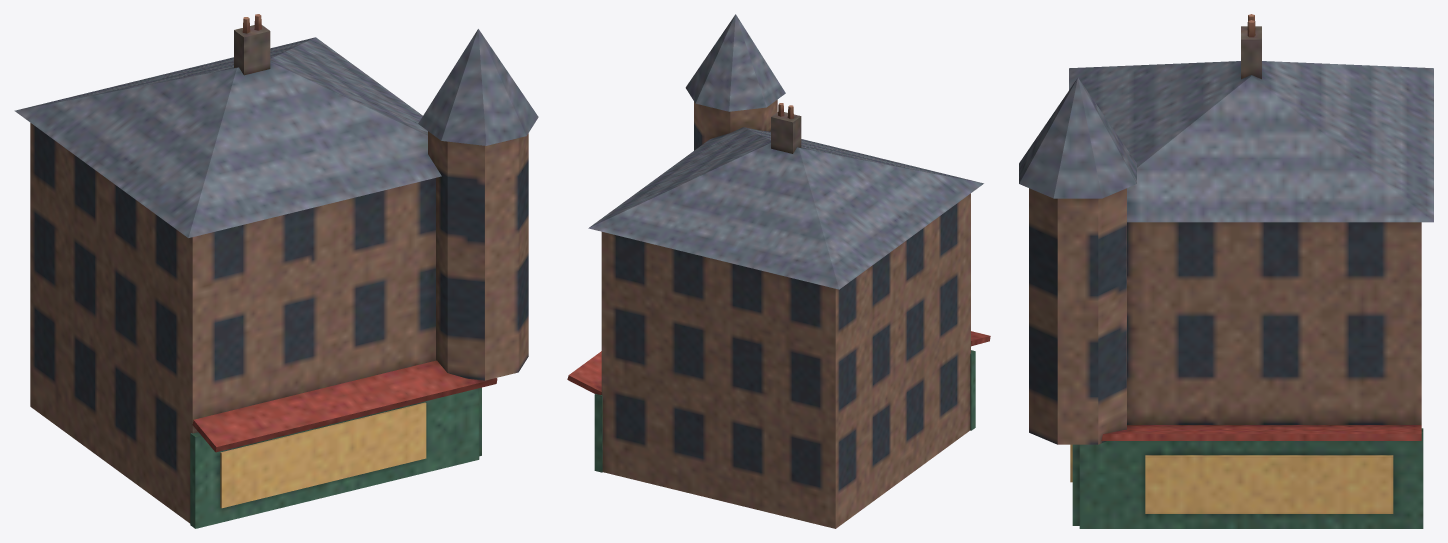
File: SM_Shop_Corner.fbx
3 renders of one model, left to right at view 1: azimuth 30°, elevation 25°; view 2: azimuth 150°, elevation 25°; view 3: azimuth 270°, elevation 25°, orthographic. The views are drawn at different scales.
Parts seen in each view (by area): view 1: SM_Shop_Corner; view 2: SM_Shop_Corner; view 3: SM_Shop_Corner.
Boxes of the visible parts, x1=… form: SM_Shop_Corner: x1=14, y1=14, x2=538, y2=528; SM_Shop_Corner: x1=567, y1=14, x2=990, y2=528; SM_Shop_Corner: x1=1019, y1=14, x2=1433, y2=528.
Size of the model in its own units: 1171 by 1400 by 1171.
Materials: 2 (2 with a texture image).
